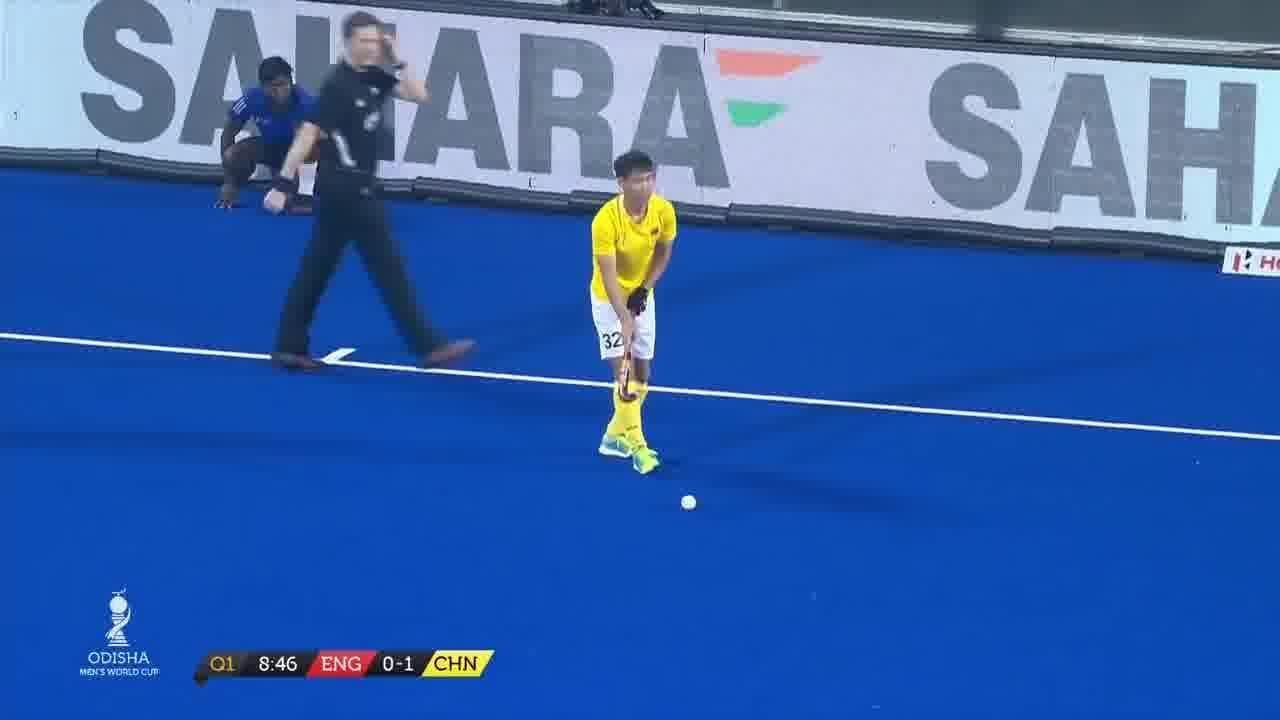ball: (669, 489, 703, 518)
